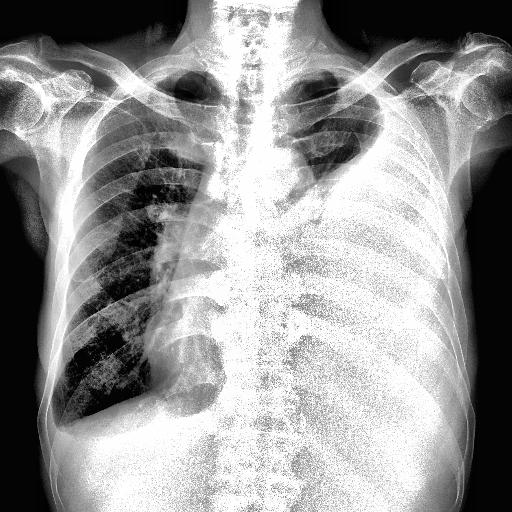0- Aortic enlargement: (242, 144, 320, 220)
10- Pleural effusion: (274, 88, 466, 436), (264, 104, 463, 401), (301, 92, 453, 428), (40, 406, 137, 454), (44, 406, 76, 462), (45, 401, 77, 453)
11- Pleural thickening: (44, 406, 76, 462), (45, 401, 77, 453), (308, 62, 380, 84), (144, 66, 214, 84), (144, 68, 195, 92), (301, 68, 368, 82)
7- Lung Opacity: (62, 380, 242, 441), (316, 133, 378, 205), (142, 310, 186, 374)
9- Other lesion: (62, 380, 242, 441)
